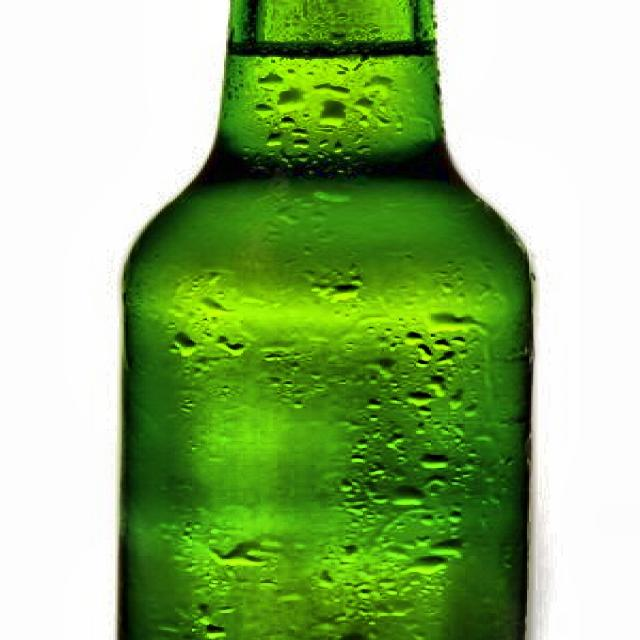glass: (113, 0, 535, 640)
